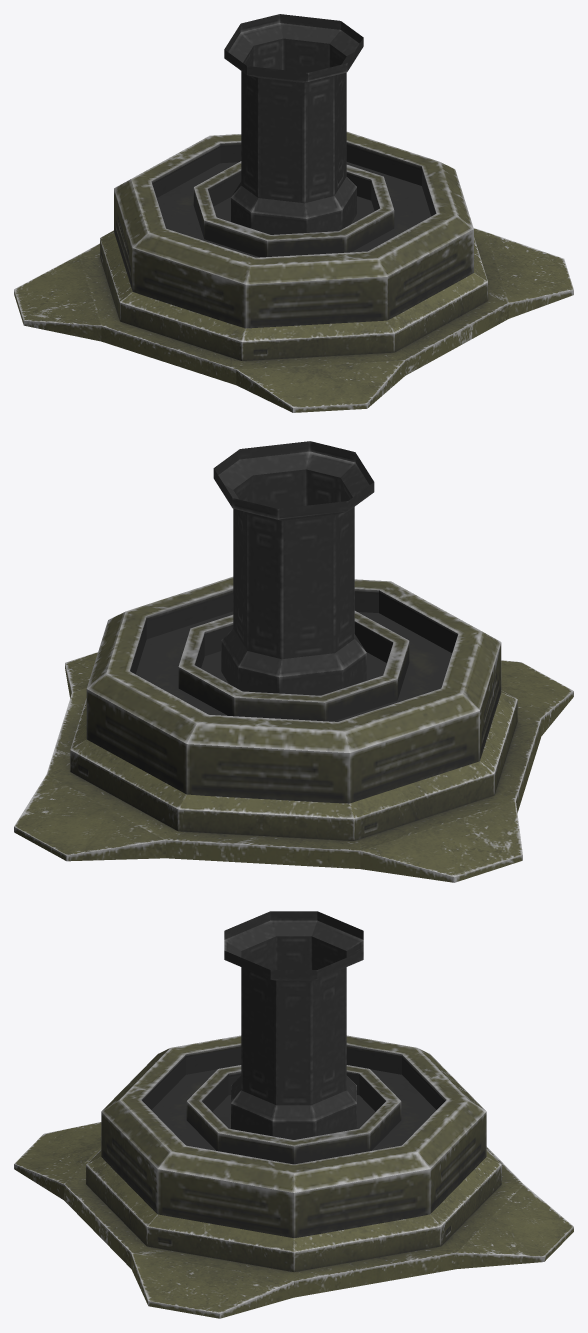
File: SM_TurretBase.FBX
The picture shows the model from 3 angles, top to bottom: view 1: azimuth 30°, elevation 25°; view 2: azimuth 150°, elevation 25°; view 3: azimuth 270°, elevation 25°; orthographic projection. The views are drawn at different scales.
Visible parts, largest first — view 1: SM_TurretBase; view 2: SM_TurretBase; view 3: SM_TurretBase.
Boxes of the visible parts, x1=… form: SM_TurretBase: x1=14, y1=14, x2=573, y2=412; SM_TurretBase: x1=14, y1=441, x2=573, y2=882; SM_TurretBase: x1=14, y1=911, x2=573, y2=1318.
Size of what is drawn, in the model's own units: 115 by 115 by 59.05.
